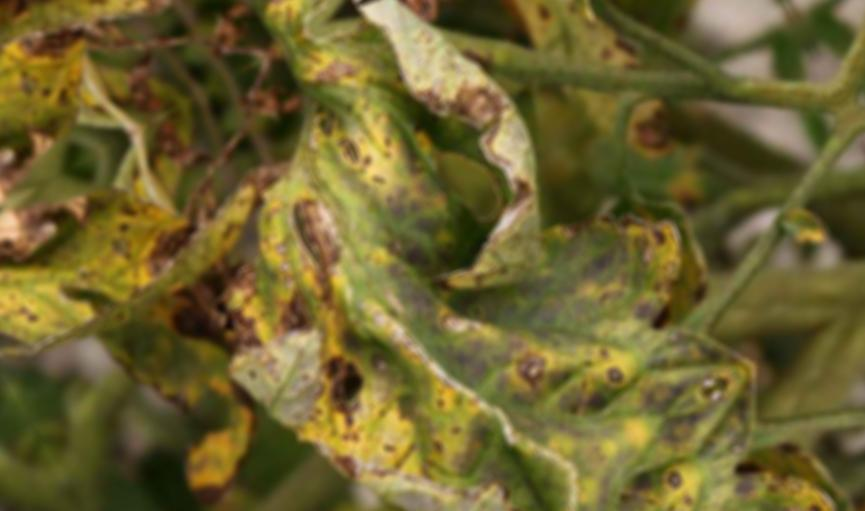Tomato Septoria leaf spot: (100, 0, 784, 511), (0, 108, 256, 391)
